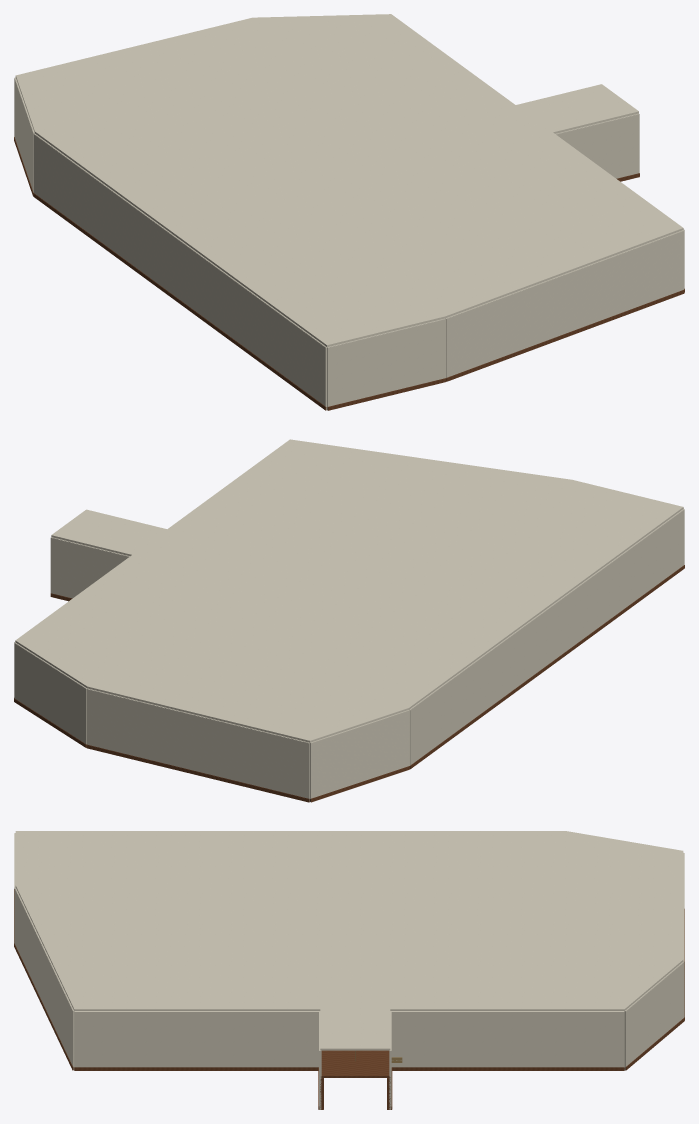
Rendered from SOL_D06_directory_09_remaining_batch.glb.
3 views of the same model, one above another, from view 1: azimuth 30°, elevation 25°; view 2: azimuth 150°, elevation 25°; view 3: azimuth 270°, elevation 25° (orthographic). The views are drawn at different scales.
Parts seen in each view (by area): view 1: Cove_opaque_roof__EXPORT, Enclosure_5__EXPORT, Enclosure_7__EXPORT, Enclosure_6__EXPORT, Enclosure_9__EXPORT, Wall_base_5__EXPORT, Enclosure_4__EXPORT, Wall_base_7__EXPORT; view 2: Cove_opaque_roof__EXPORT, Enclosure_5__EXPORT, Enclosure_3__EXPORT, Enclosure_4__EXPORT, Enclosure_2__EXPORT, Enclosure_0__EXPORT, Wall_base_5__EXPORT, Wall_base_3__EXPORT; view 3: Cove_opaque_roof__EXPORT, Enclosure_8__EXPORT, Enclosure_1__EXPORT, Enclosure_7__EXPORT, Enclosure_2__EXPORT, Entry_head__EXPORT, Wall_base_8__EXPORT, Wall_base_1__EXPORT.
Part boxes in pixels (x1,y1,x2,y2): Cove_opaque_roof__EXPORT: (15,14,683,347); Enclosure_5__EXPORT: (34,133,326,409); Enclosure_7__EXPORT: (445,230,684,377); Enclosure_6__EXPORT: (327,318,445,410); Enclosure_9__EXPORT: (555,113,639,178); Wall_base_5__EXPORT: (33,193,326,410); Enclosure_4__EXPORT: (14,77,34,192); Wall_base_7__EXPORT: (446,290,684,381); Cove_opaque_roof__EXPORT: (15,439,683,742); Enclosure_5__EXPORT: (409,509,684,765); Enclosure_3__EXPORT: (87,688,309,801); Enclosure_4__EXPORT: (310,710,409,801); Enclosure_2__EXPORT: (14,642,87,744); Enclosure_0__EXPORT: (50,537,129,598); Wall_base_5__EXPORT: (410,565,684,769); Wall_base_3__EXPORT: (86,744,309,802); Cove_opaque_roof__EXPORT: (15,831,683,1050); Enclosure_8__EXPORT: (74,1011,319,1067); Enclosure_1__EXPORT: (390,1011,624,1067); Enclosure_7__EXPORT: (14,887,74,1069); Enclosure_2__EXPORT: (624,961,684,1070); Entry_head__EXPORT: (321,1050,390,1077); Wall_base_8__EXPORT: (74,1067,318,1070); Wall_base_1__EXPORT: (392,1067,624,1070).
Bounding box in the file's own units: 44.15 × 5.78 × 57.3.
26 materials, 24 textured.
